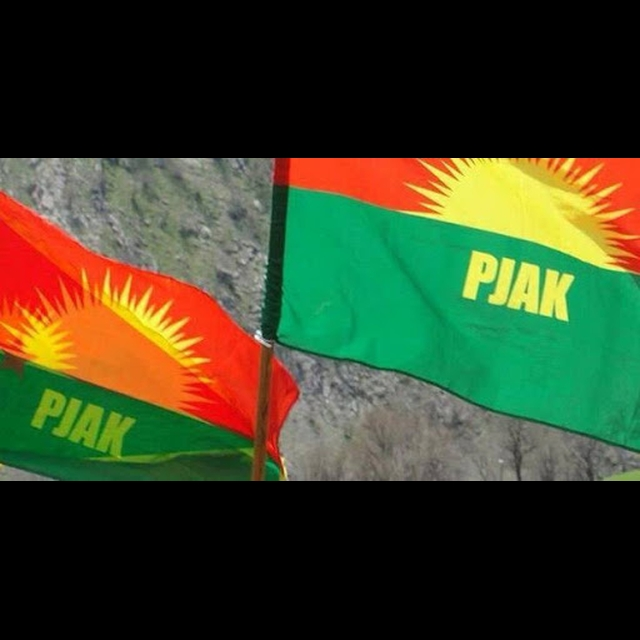PJAK: (398, 156, 636, 339), (5, 270, 213, 463)
